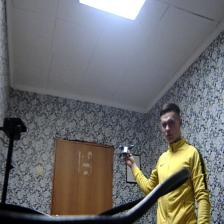drone: (114, 140, 136, 161)
